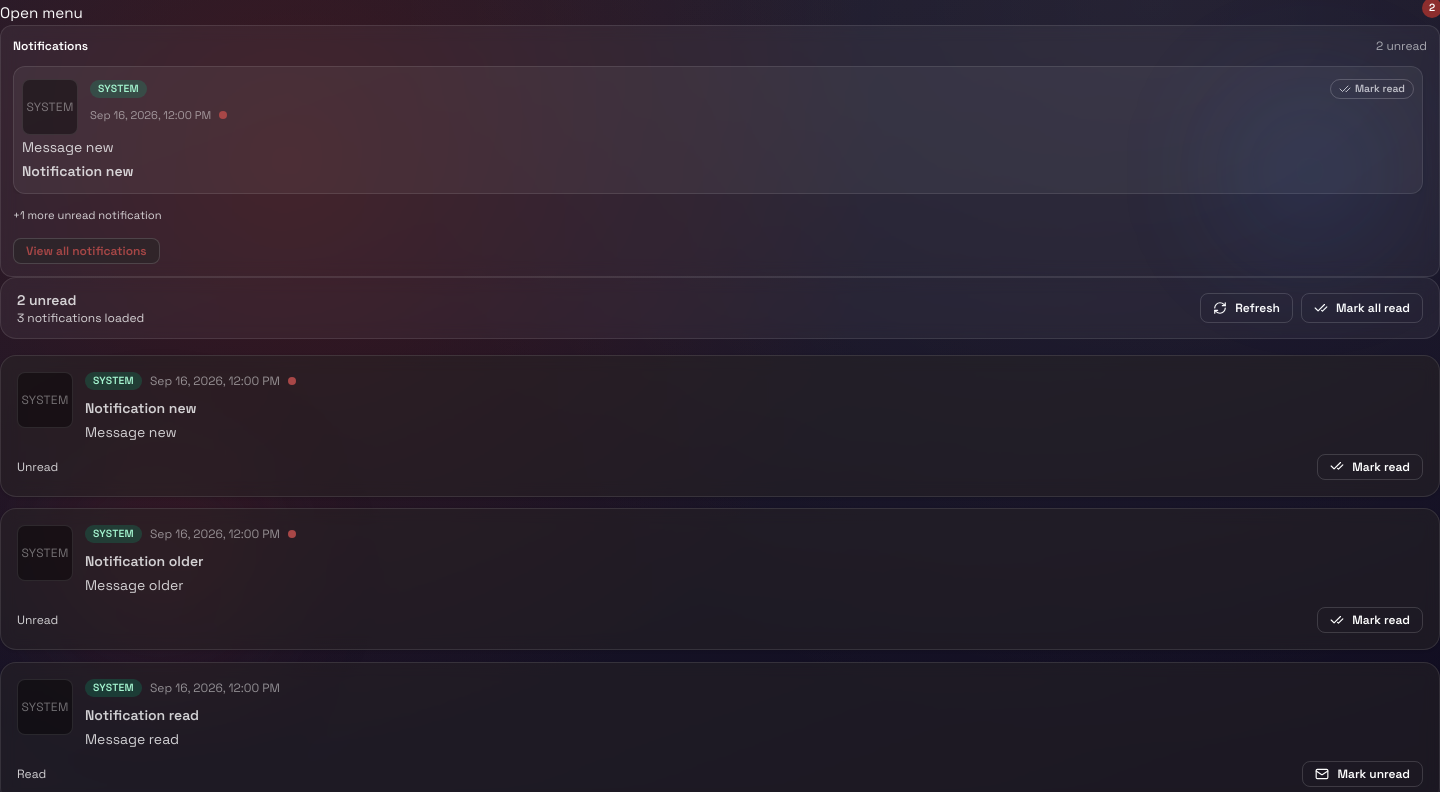
Test case: notification menu and center › failed mutations preserve the item and count and expose a retryable error
The image size is (1440, 792).
Click the 1st button "Mark read": (1372, 89) [1330,79,1414,99]
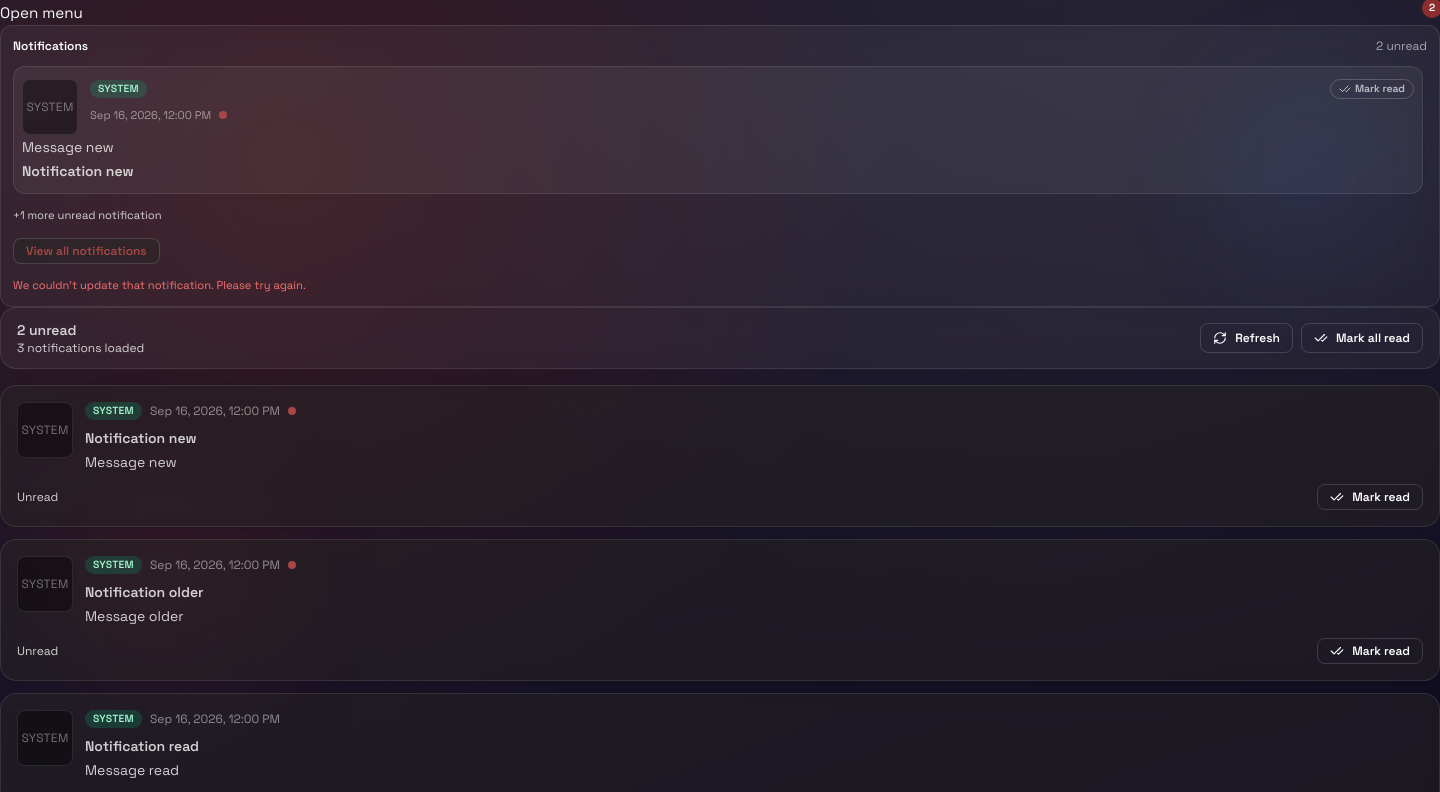
Expected: the text "Notification new" is shown, [22,162,134,180]
Expected: the message "We couldn’t update that notification. Please try again." is shown, [13,278,306,292]
Click the 1st button "Mark read": (1372, 89) [1330,79,1414,99]
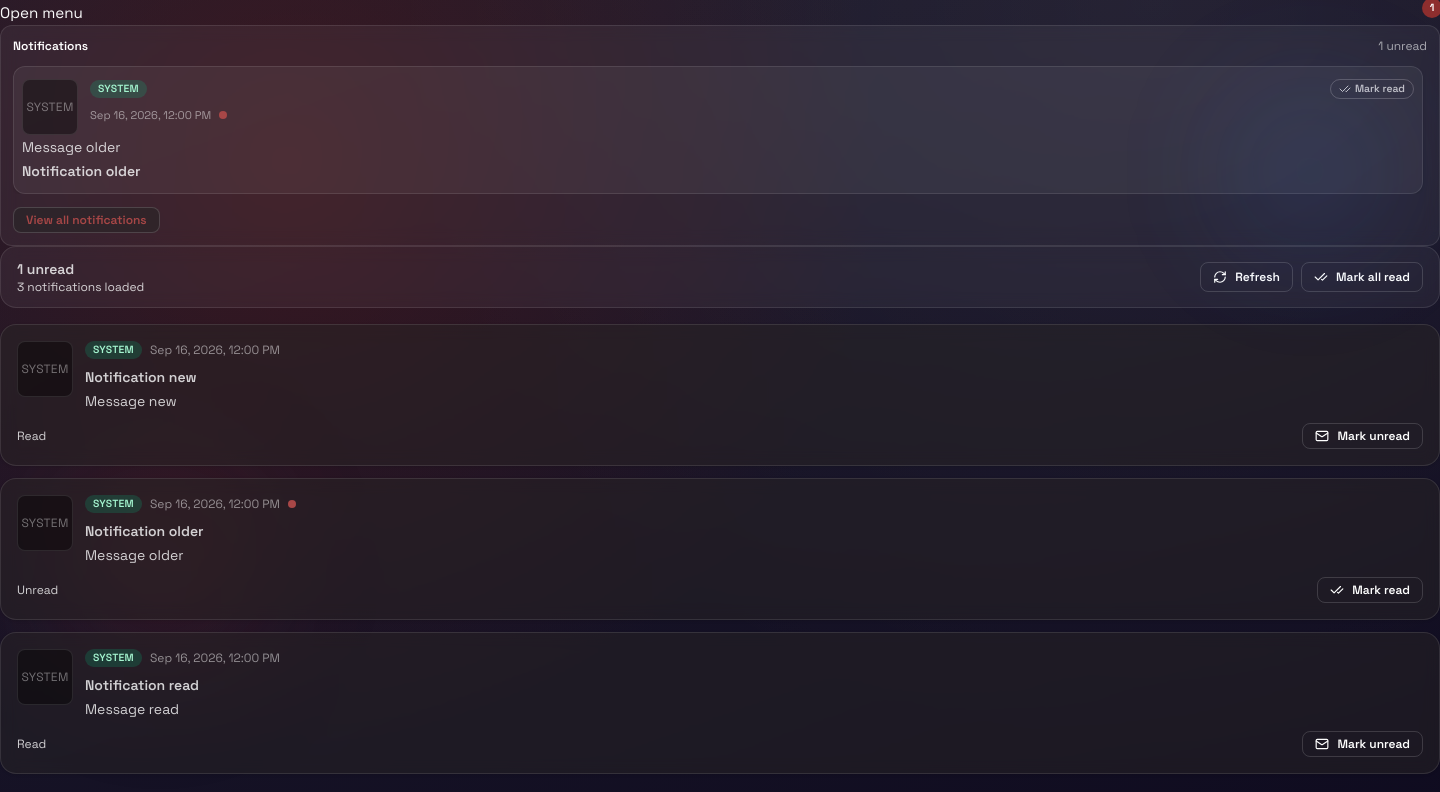
Expected: the text "Notification older" is shown, [22,162,141,180]
Expected: the message "We couldn’t update that notification. Please try again." is gone
